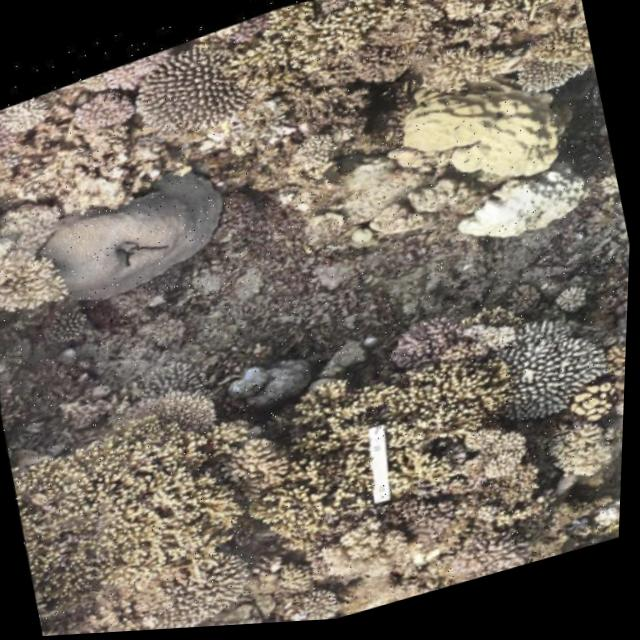Bleached Coral: (377, 44, 591, 238), (474, 313, 621, 448), (218, 338, 316, 425)
